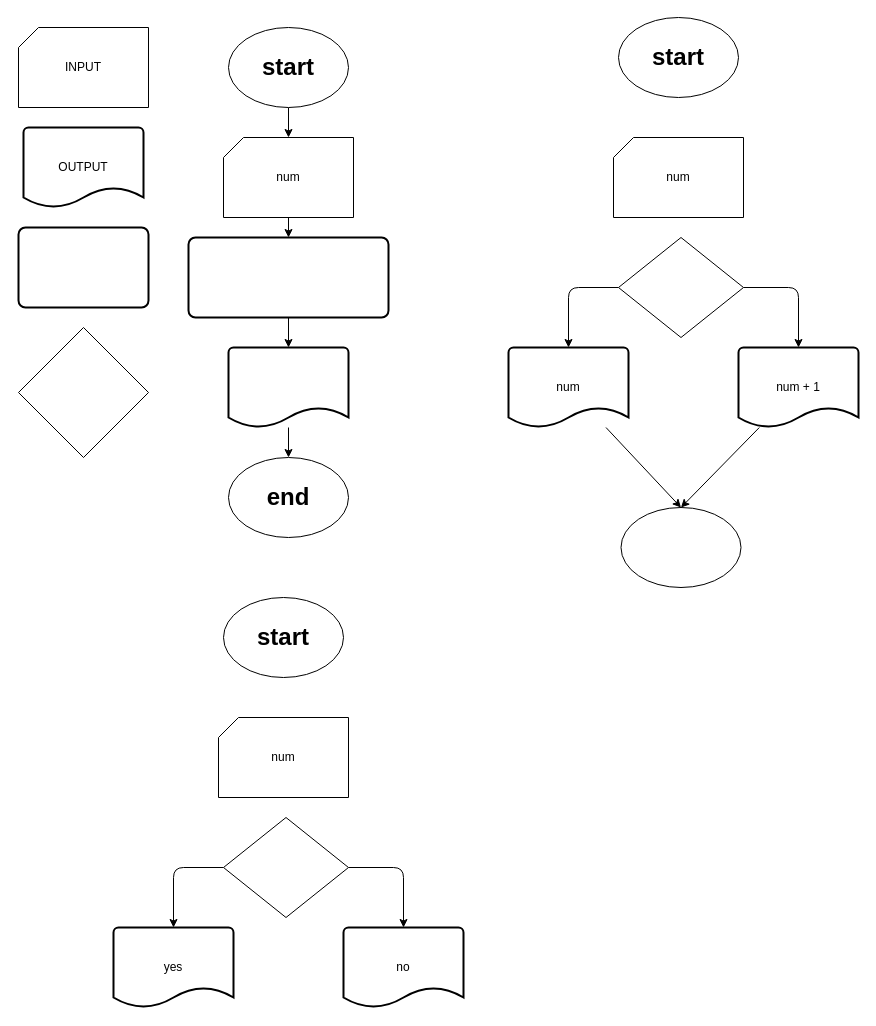
The diagram is 876 pixels wide and 1026 high, and some of its shapes have lost their labels. Each missing label, with the box of its shape:
IF: (18, 326, 148, 458)
num % 2 === 0: (618, 236, 744, 338)
num % 3 && num % 5: (222, 816, 348, 918)
PROCESS: (17, 226, 149, 308)
stop: (620, 506, 741, 588)
sum: (227, 346, 349, 428)
sum = int(num/10) + ((num/10) - int(num/10) * 10): (187, 236, 389, 318)
